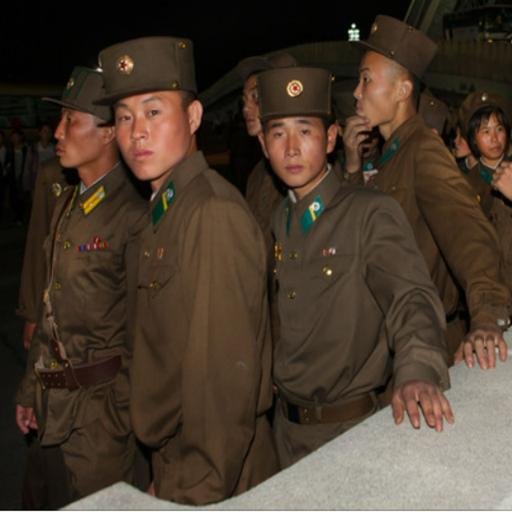north army: (24, 33, 512, 486)
